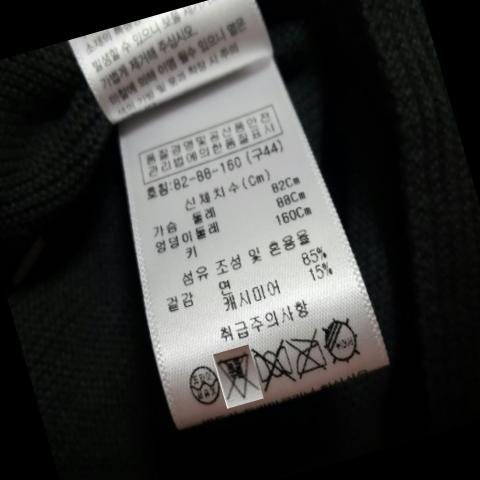DN_iron: (292, 332, 328, 378)
DN_wring: (257, 340, 293, 388)
dry_clean_petrol_only: (187, 357, 220, 408)
dry_flat_in_shade: (320, 313, 361, 368)
non_chlorine_bleach: (220, 349, 254, 400)
